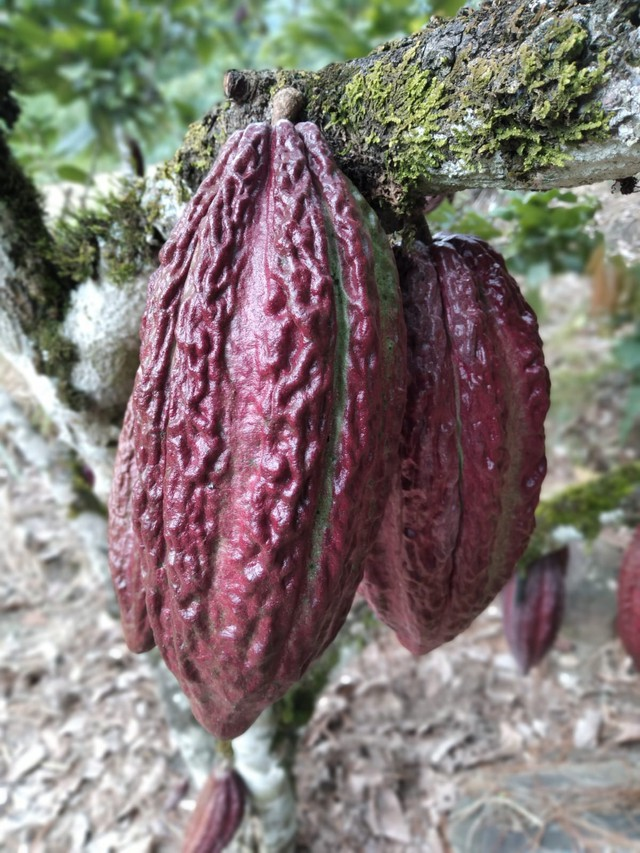Health: (110, 49, 417, 754)
